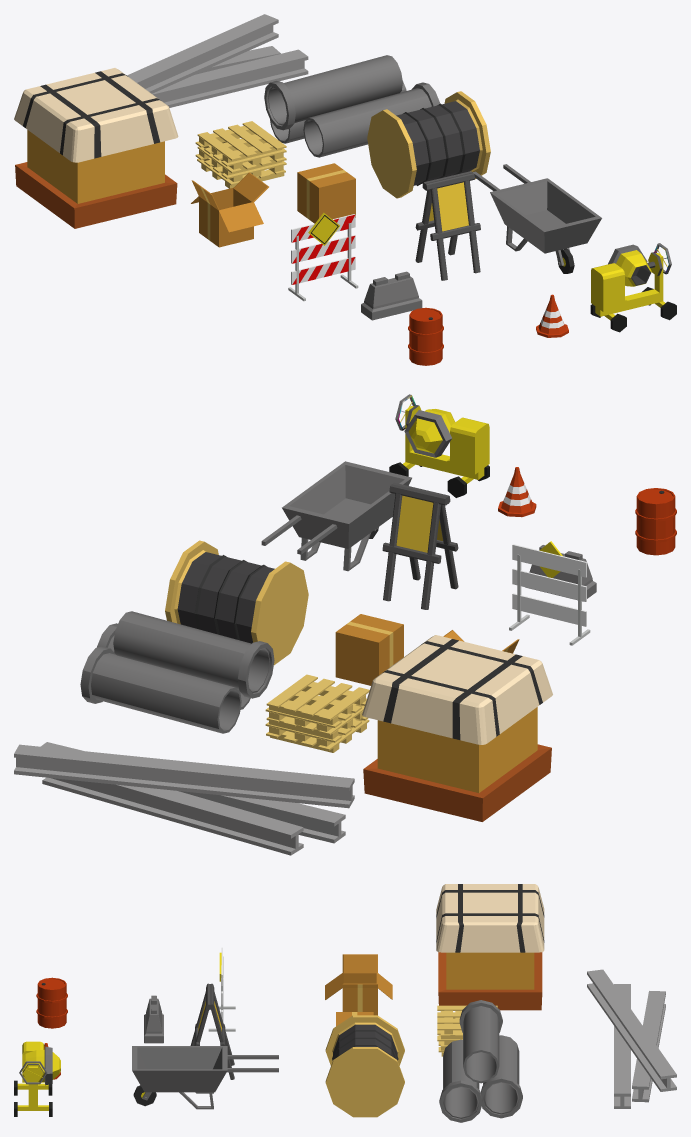
Rendered from Construction.fbx.
The picture shows the model from 3 angles, top to bottom: view 1: azimuth 30°, elevation 25°; view 2: azimuth 150°, elevation 25°; view 3: azimuth 270°, elevation 25°; orthographic projection. The views are drawn at different scales.
Parts seen in each view (by area): view 1: Cube.057, Cylinder.009, Cylinder.067, Cube.058, Cube.036, Cylinder.079, Cube.056, Plane.003, Cube.035, Cube.052, Cube.037, Cube.006 (+2 smaller); view 2: Cube.057, Cube.058, Cylinder.009, Cylinder.067, Cube.036, Cube.056, Cylinder.079, Plane.003, Cube.052, Cube.037, Cylinder.011, Cylinder.010 (+1 smaller); view 3: Cube.057, Cylinder.009, Cylinder.067, Cube.058, Cube.036, Cube.035, Cylinder.079, Cylinder.011, Plane.003, Cube.056, Cube.006, Cube.052.
Part boxes in pixels (left/top/right/bottom): Cube.057: left=14, top=68, right=178, bottom=228; Cylinder.009: left=264, top=55, right=440, bottom=157; Cylinder.067: left=367, top=91, right=490, bottom=198; Cube.058: left=127, top=14, right=308, bottom=107; Cube.036: left=473, top=164, right=601, bottom=273; Cylinder.079: left=590, top=243, right=676, bottom=332; Cube.056: left=195, top=121, right=286, bottom=188; Plane.003: left=415, top=171, right=480, bottom=280; Cube.035: left=191, top=172, right=268, bottom=247; Cube.052: left=288, top=212, right=358, bottom=301; Cube.037: left=297, top=163, right=355, bottom=223; Cube.006: left=361, top=271, right=422, bottom=320; Cube.057: left=362, top=635, right=552, bottom=821; Cube.058: left=14, top=742, right=354, bottom=855; Cylinder.009: left=80, top=611, right=274, bottom=733; Cylinder.067: left=165, top=540, right=308, bottom=665; Cube.036: left=261, top=461, right=411, bottom=571; Cube.056: left=265, top=674, right=369, bottom=752; Cylinder.079: left=389, top=394, right=489, bottom=497; Plane.003: left=382, top=482, right=458, bottom=609; Cube.052: left=509, top=541, right=590, bottom=645; Cube.037: left=335, top=614, right=403, bottom=685; Cylinder.011: left=635, top=488, right=676, bottom=555; Cylinder.010: left=498, top=467, right=536, bottom=517; Cube.057: left=436, top=884, right=544, bottom=1010; Cylinder.009: left=439, top=1000, right=522, bottom=1122; Cylinder.067: left=325, top=1015, right=404, bottom=1117; Cube.058: left=587, top=969, right=676, bottom=1108; Cube.036: left=132, top=1046, right=278, bottom=1109; Cube.035: left=325, top=954, right=392, bottom=1015; Cylinder.079: left=14, top=1041, right=60, bottom=1116; Cylinder.011: left=36, top=977, right=67, bottom=1028; Plane.003: left=190, top=983, right=234, bottom=1079; Cube.056: left=437, top=1005, right=497, bottom=1056; Cube.006: left=144, top=995, right=163, bottom=1043; Cube.052: left=208, top=947, right=235, bottom=1031.
Size of the model in its own units: 20.63 by 5.3 by 36.49.
1 material, 1 textured.
